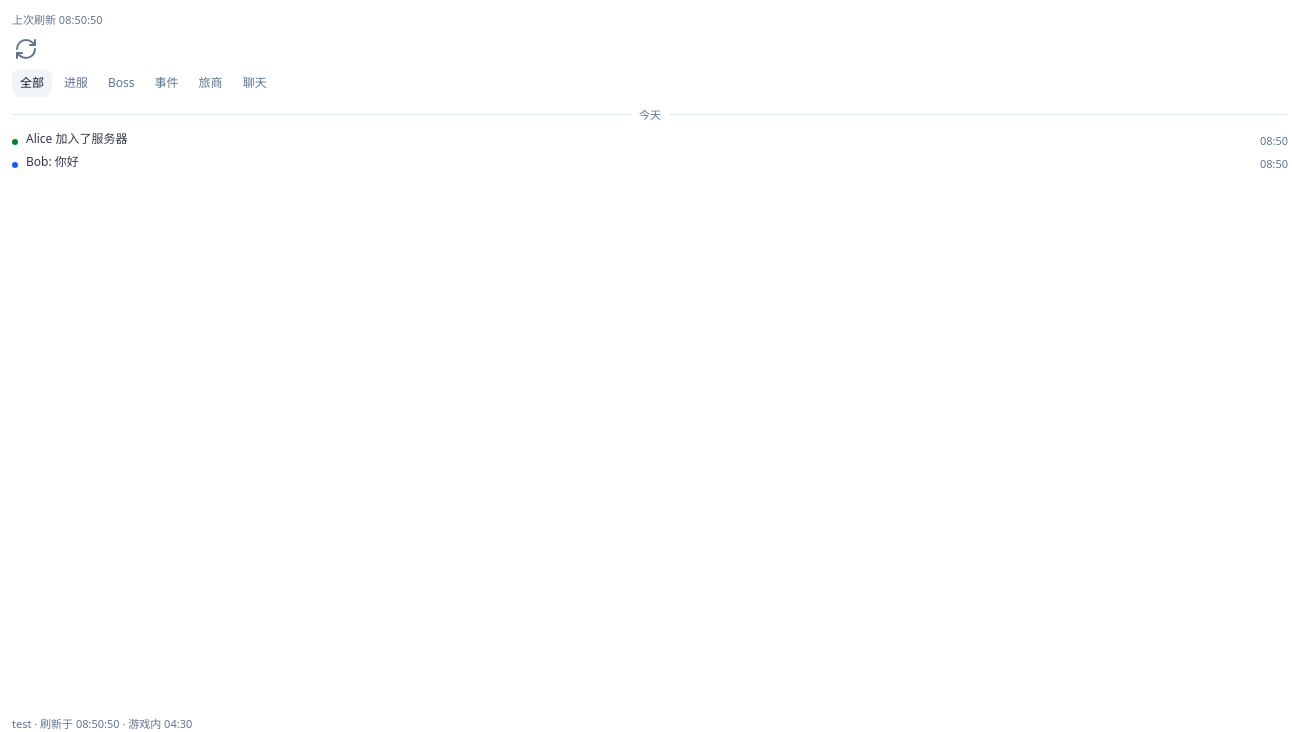
it: ServerFeedTab 类型筛选 › 点「聊天」后只显示聊天事件
The width and height of the screenshot is (1292, 732).
Expected: the text "Alice 加入了服务器" is shown, [26,130,128,147]
Click the button "聊天" at x=255, y=82, box [235,68,275,96]
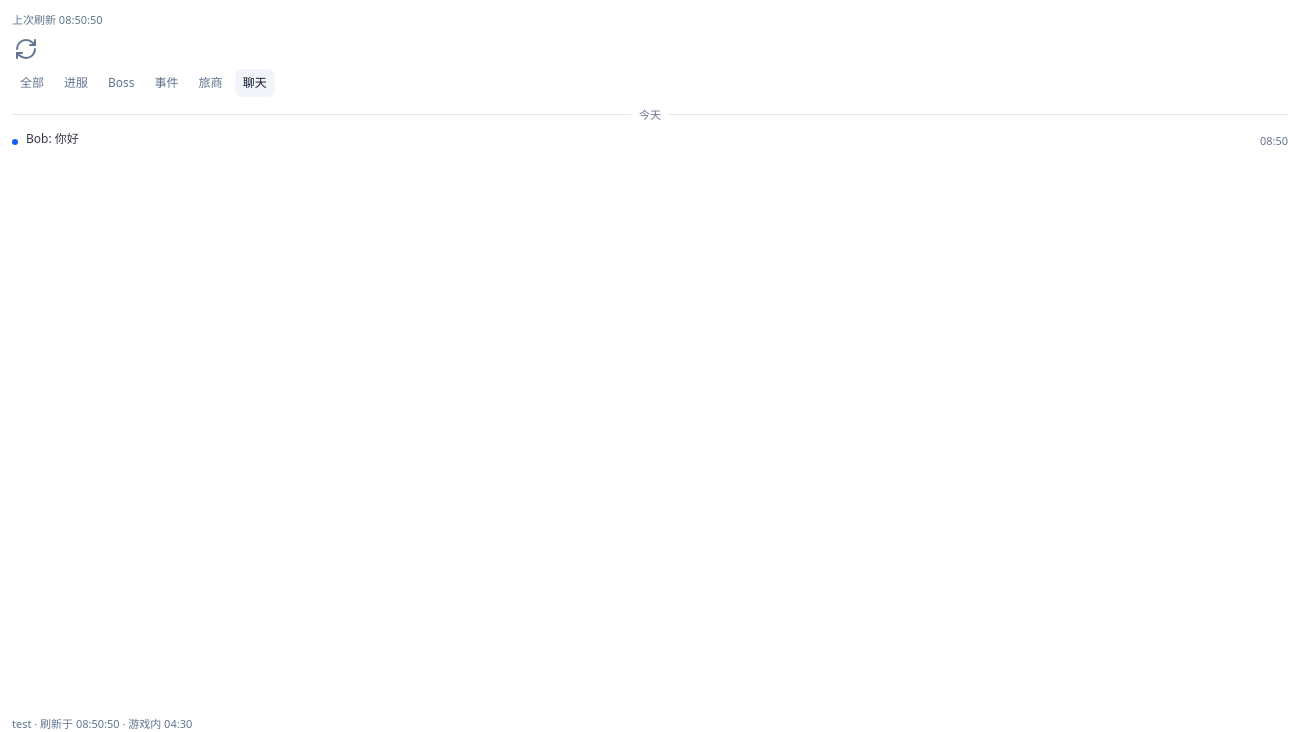
Expected: the text "Bob: 你好" is shown, [26,130,79,147]
Expected: the text "Alice 加入了服务器" is gone
